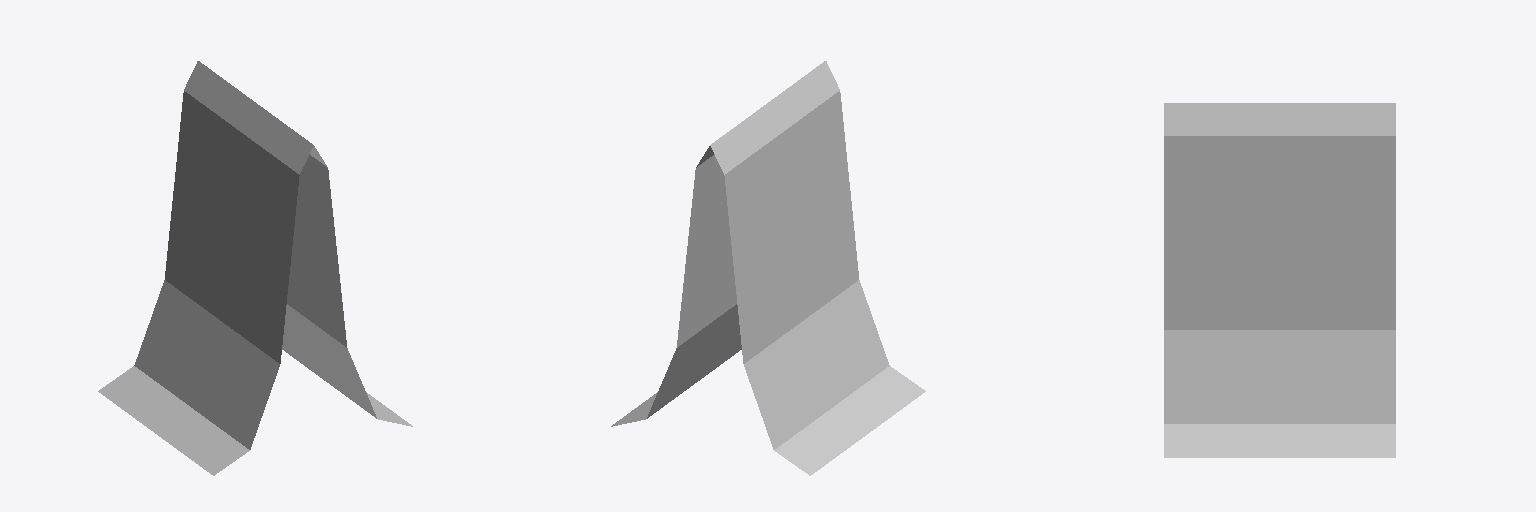
Rendered from wall_12.obj.
3 renders of one model, left to right at view 1: azimuth 30°, elevation 25°; view 2: azimuth 150°, elevation 25°; view 3: azimuth 270°, elevation 25°, orthographic.
Visible parts, largest first — view 1: wall_12_Cave_Wall_Straight.039; view 2: wall_12_Cave_Wall_Straight.039; view 3: wall_12_Cave_Wall_Straight.039.
Part boxes in pixels (left/top/right/bottom): wall_12_Cave_Wall_Straight.039: left=98, top=61, right=412, bottom=475; wall_12_Cave_Wall_Straight.039: left=611, top=61, right=925, bottom=475; wall_12_Cave_Wall_Straight.039: left=1164, top=103, right=1395, bottom=457.
Bounding box in the file's own units: 1 × 1.46 × 1.